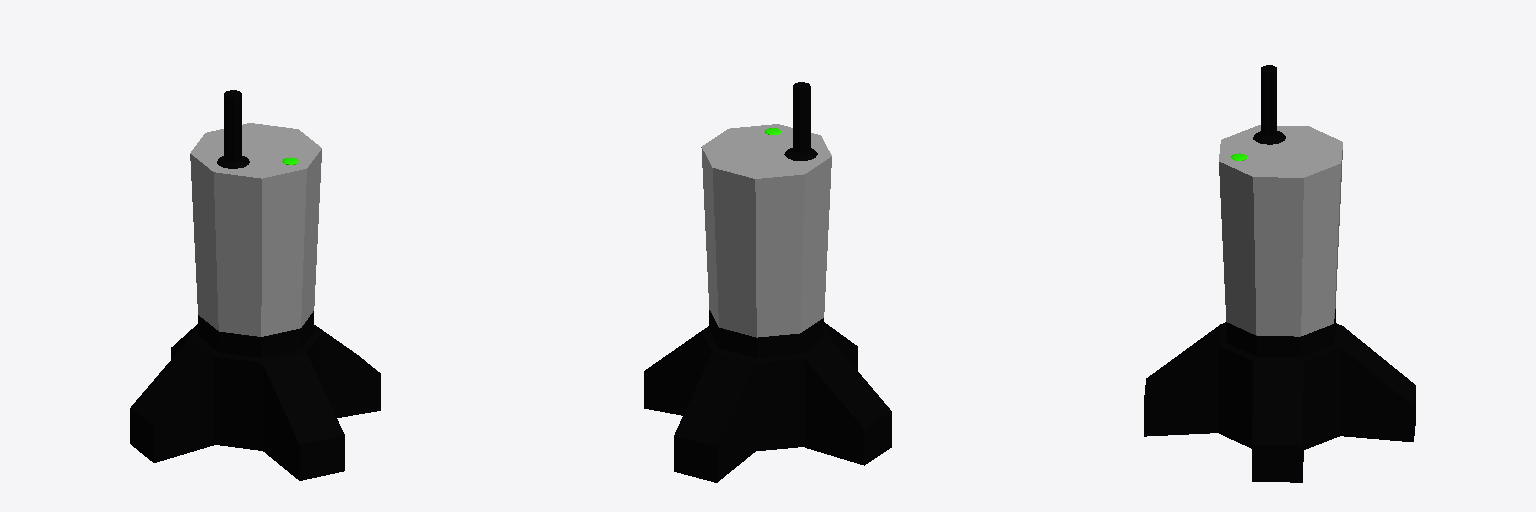
Rendered from Motion Sensor.obj.
3 renders of one model, left to right at view 1: azimuth 30°, elevation 25°; view 2: azimuth 150°, elevation 25°; view 3: azimuth 270°, elevation 25°, orthographic.
Visible parts, largest first — view 1: Motion Sensor; view 2: Motion Sensor; view 3: Motion Sensor.
Boxes of the visible parts, x1,y1,x2,y2 form: Motion Sensor: [130, 90, 380, 480]; Motion Sensor: [644, 82, 891, 482]; Motion Sensor: [1144, 65, 1415, 482].
Size of the model in its own units: 1.47 by 2.16 by 1.54.